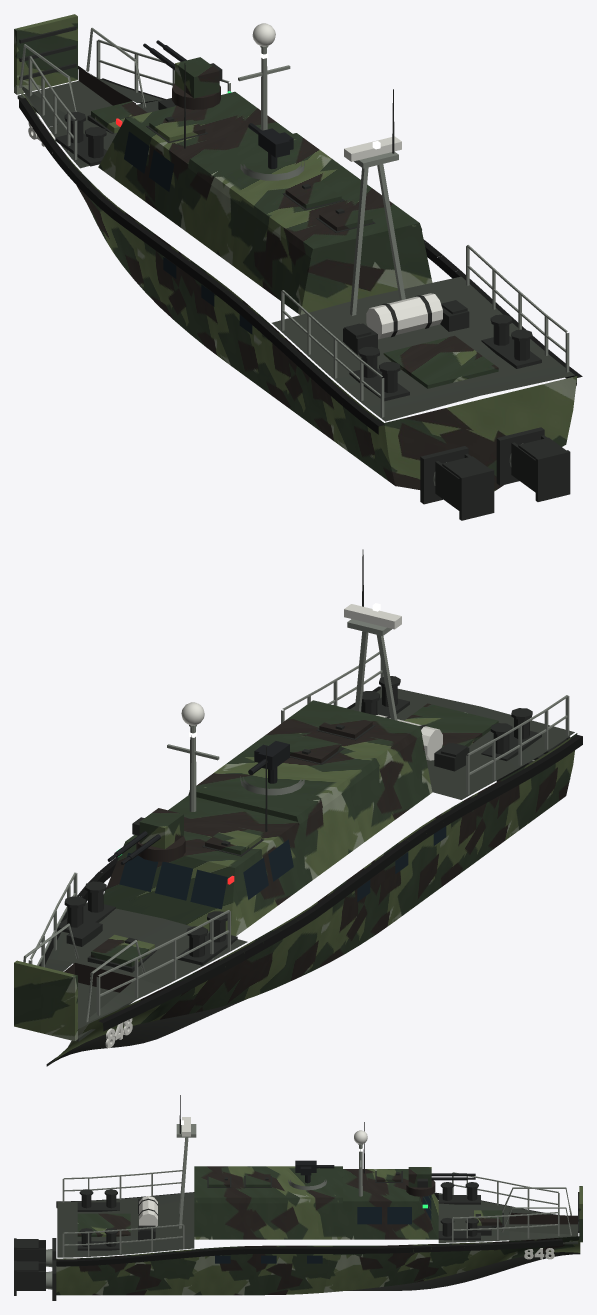
The picture shows the model from 3 angles, top to bottom: view 1: azimuth 30°, elevation 25°; view 2: azimuth 150°, elevation 25°; view 3: azimuth 270°, elevation 25°; orthographic projection. The views are drawn at different scales.
Visible parts, largest first — view 1: cb90_static, door_ramp, turret, hatch_troop_1, hatch_roof, hatch_bow, hatch_troop_2; view 2: cb90_static, door_ramp, turret, hatch_bow, hatch_roof, hatch_troop_1, hatch_troop_2, cb90_static2; view 3: cb90_static, turret, hatch_bow, hatch_troop_1, hatch_roof, hatch_troop_2, cb90_static2.
Boxes of the visible parts, bbox=[...] form: cb90_static: bbox=[16, 23, 582, 520]; door_ramp: bbox=[14, 14, 77, 94]; turret: bbox=[143, 40, 222, 109]; hatch_troop_1: bbox=[285, 181, 341, 208]; hatch_roof: bbox=[149, 114, 205, 141]; hatch_bow: bbox=[91, 101, 147, 133]; hatch_troop_2: bbox=[319, 206, 372, 231]; cb90_static: bbox=[23, 549, 582, 1066]; door_ramp: bbox=[14, 960, 77, 1041]; turret: bbox=[107, 808, 185, 864]; hatch_bow: bbox=[91, 934, 154, 966]; hatch_roof: bbox=[205, 827, 260, 854]; hatch_troop_1: bbox=[290, 735, 341, 763]; hatch_troop_2: bbox=[319, 713, 372, 738]; cb90_static2: bbox=[87, 725, 375, 972]; cb90_static: bbox=[14, 1095, 580, 1300]; turret: bbox=[406, 1167, 475, 1196]; hatch_bow: bbox=[474, 1210, 502, 1225]; hatch_troop_1: bbox=[245, 1174, 270, 1187]; hatch_roof: bbox=[376, 1169, 401, 1181]; hatch_troop_2: bbox=[208, 1174, 229, 1187]; cb90_static2: bbox=[207, 1171, 503, 1227].
Size of the model in its own units: 4.02 by 6.25 by 16.08.
Materials: 12 (1 with a texture image).
